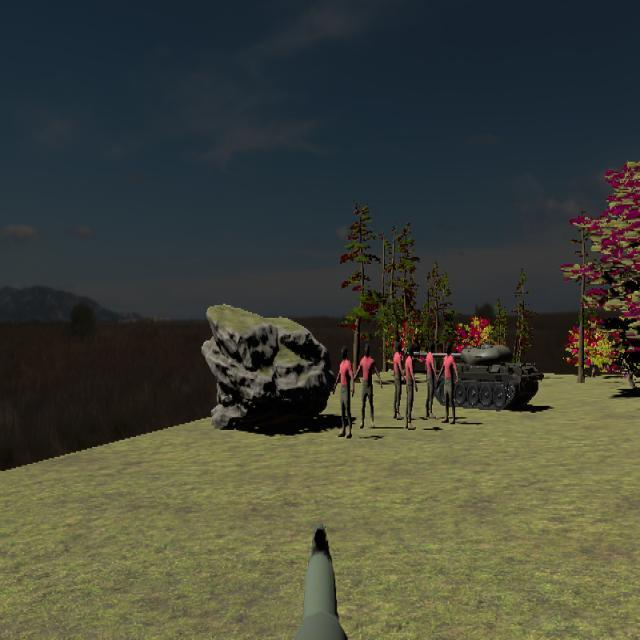Human: (353, 342, 382, 428), (333, 347, 354, 438), (437, 342, 459, 427), (404, 340, 419, 430), (424, 339, 438, 420), (392, 340, 406, 421)
Tank: (415, 342, 543, 411)
